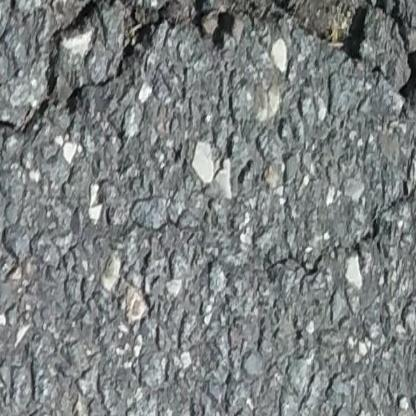Cracks: (0, 0, 416, 144)
